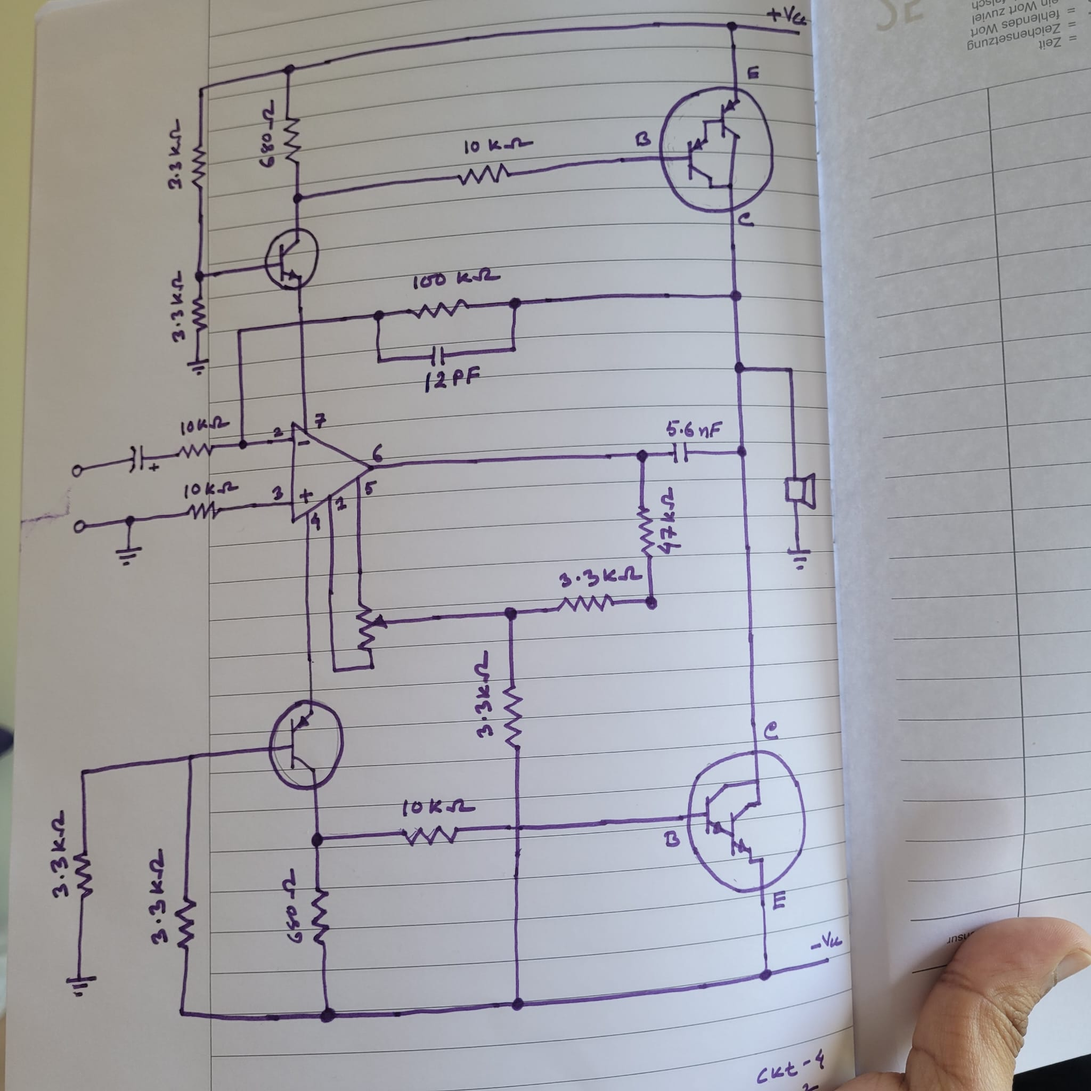capacitor.polarized: (125, 443, 161, 477)
capacitor.unpolarized: (425, 343, 450, 368), (669, 439, 691, 467)
crossover: (508, 818, 527, 837), (293, 314, 310, 332)
gnd: (62, 973, 99, 999), (784, 545, 815, 572), (111, 544, 144, 568), (185, 356, 211, 378)
junction: (307, 828, 329, 851), (640, 592, 660, 612), (508, 994, 527, 1013), (319, 1007, 338, 1025), (732, 443, 750, 461), (235, 434, 253, 452), (191, 267, 208, 286), (726, 287, 744, 304), (280, 61, 298, 78), (758, 965, 775, 983), (370, 308, 387, 325), (289, 189, 306, 206), (506, 295, 524, 311), (634, 447, 650, 464), (731, 360, 748, 376), (723, 19, 740, 35), (182, 749, 198, 766), (503, 605, 519, 622), (174, 1005, 190, 1021), (194, 81, 209, 96), (372, 353, 387, 368), (122, 514, 138, 528), (506, 342, 521, 356), (75, 765, 89, 779), (783, 363, 796, 376), (233, 324, 245, 337), (367, 662, 378, 673), (330, 665, 340, 676)
operational_amplifier: (284, 420, 375, 529)
resistor: (499, 681, 526, 753), (171, 892, 200, 954), (454, 160, 514, 189), (406, 297, 474, 322), (556, 590, 618, 616), (279, 110, 306, 168), (400, 823, 460, 848), (633, 501, 657, 559), (71, 845, 95, 901), (310, 887, 332, 947), (188, 141, 210, 189), (174, 439, 219, 461), (185, 499, 223, 523), (189, 289, 209, 334)
resistor.adjustable: (354, 601, 389, 653)
speaker: (780, 470, 820, 511)
terminal: (69, 462, 86, 478), (71, 518, 88, 534), (819, 954, 834, 968), (792, 26, 804, 39)
text: (407, 266, 504, 294), (144, 847, 170, 947), (470, 646, 496, 742), (47, 807, 71, 900), (555, 564, 642, 589), (422, 360, 484, 394), (280, 868, 304, 947), (656, 485, 682, 555), (401, 796, 477, 818), (164, 118, 186, 193), (167, 268, 188, 346), (461, 133, 535, 154), (257, 99, 278, 169), (663, 417, 724, 441), (176, 413, 230, 436), (182, 477, 239, 498), (767, 6, 809, 27), (809, 930, 844, 952), (768, 889, 791, 914), (661, 827, 682, 850), (369, 440, 387, 466), (762, 720, 781, 743), (633, 128, 653, 149), (736, 209, 756, 229), (306, 513, 325, 533), (312, 410, 329, 430), (363, 476, 380, 496), (268, 484, 286, 501), (333, 495, 351, 512), (746, 64, 762, 82), (271, 425, 286, 439)
transistor.bjt: (678, 744, 810, 901), (654, 84, 776, 215), (264, 697, 348, 792), (260, 225, 323, 292)
